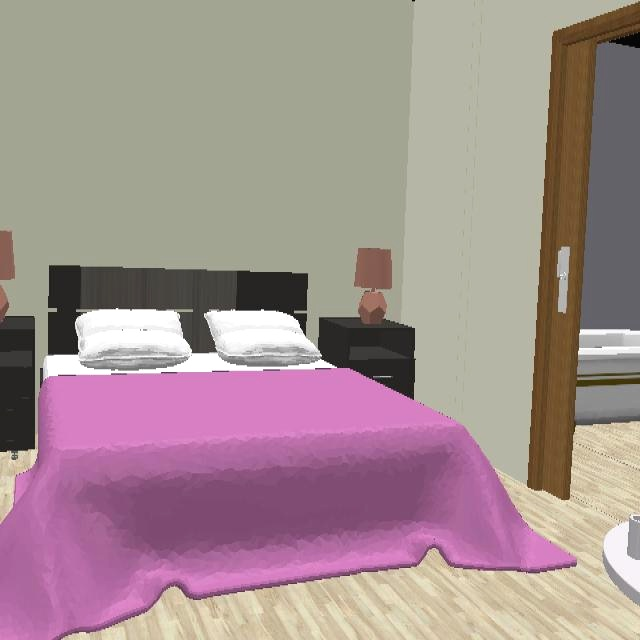bathtube: (576, 328, 640, 423)
bed: (0, 353, 576, 640)
lamp: (354, 248, 392, 327), (0, 229, 15, 324)
nighttable: (318, 317, 416, 396), (0, 316, 36, 453)
pillow: (75, 309, 192, 371), (204, 311, 322, 368)
table: (601, 515, 640, 611)
